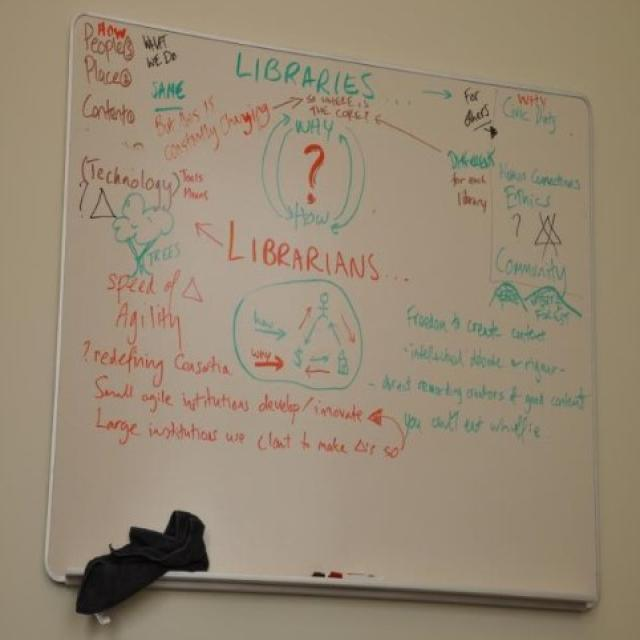White-board: (55, 15, 600, 602)
